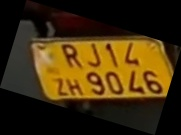character: (60, 42, 83, 69), (141, 69, 163, 93), (85, 70, 106, 95), (104, 70, 124, 95), (127, 69, 146, 95), (123, 40, 140, 65), (85, 41, 101, 67), (50, 76, 69, 96), (104, 42, 119, 67), (65, 77, 83, 96)
